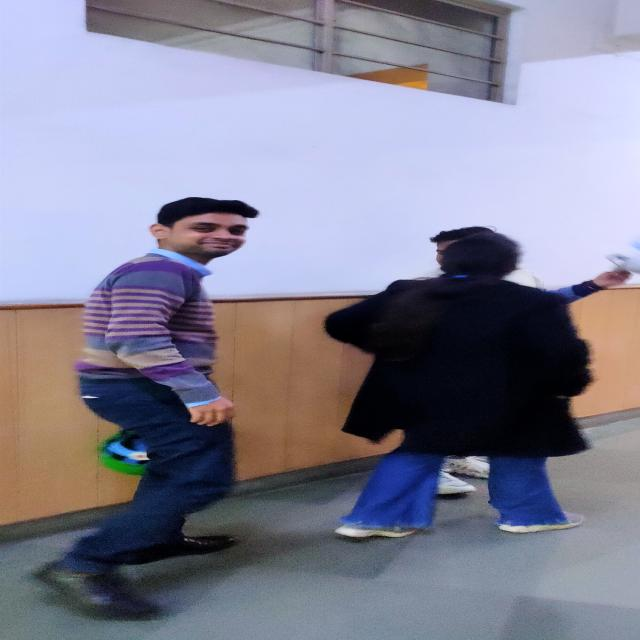unsafe: (44, 201, 252, 625), (328, 235, 586, 538)
